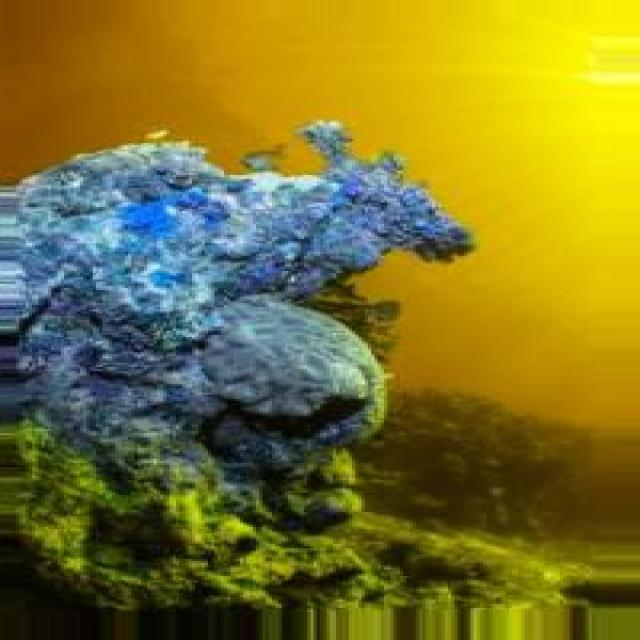Healthy: (14, 120, 475, 528)
